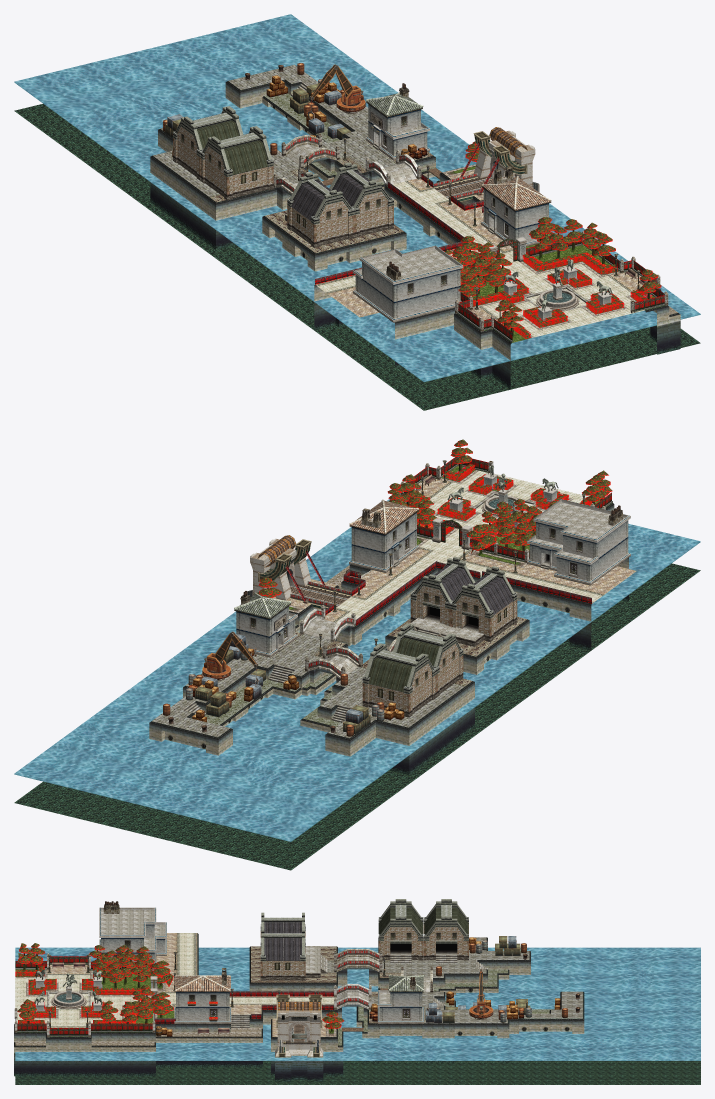
File: Ruan3.obj
3 renders of one model, top to bottom at view 1: azimuth 30°, elevation 25°; view 2: azimuth 150°, elevation 25°; view 3: azimuth 270°, elevation 25°, orthographic. The views are drawn at different scales.
Visible parts, largest first — view 1: Object.016; view 2: Object.016; view 3: Object.016.
Part boxes in pixels (x1,y1,x2,y2): Object.016: (14, 14, 700, 410); Object.016: (14, 439, 700, 870); Object.016: (14, 899, 700, 1084).
Size of the model in its own units: 49.95 by 17.34 by 128.
Materials: 31 (31 with a texture image).
